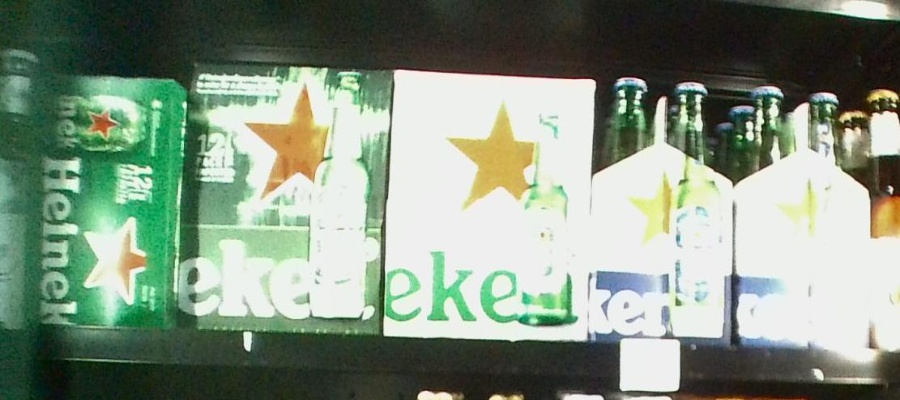bottle: (186, 61, 388, 340), (383, 71, 592, 338), (37, 74, 184, 325), (596, 76, 732, 345), (736, 81, 870, 352)
